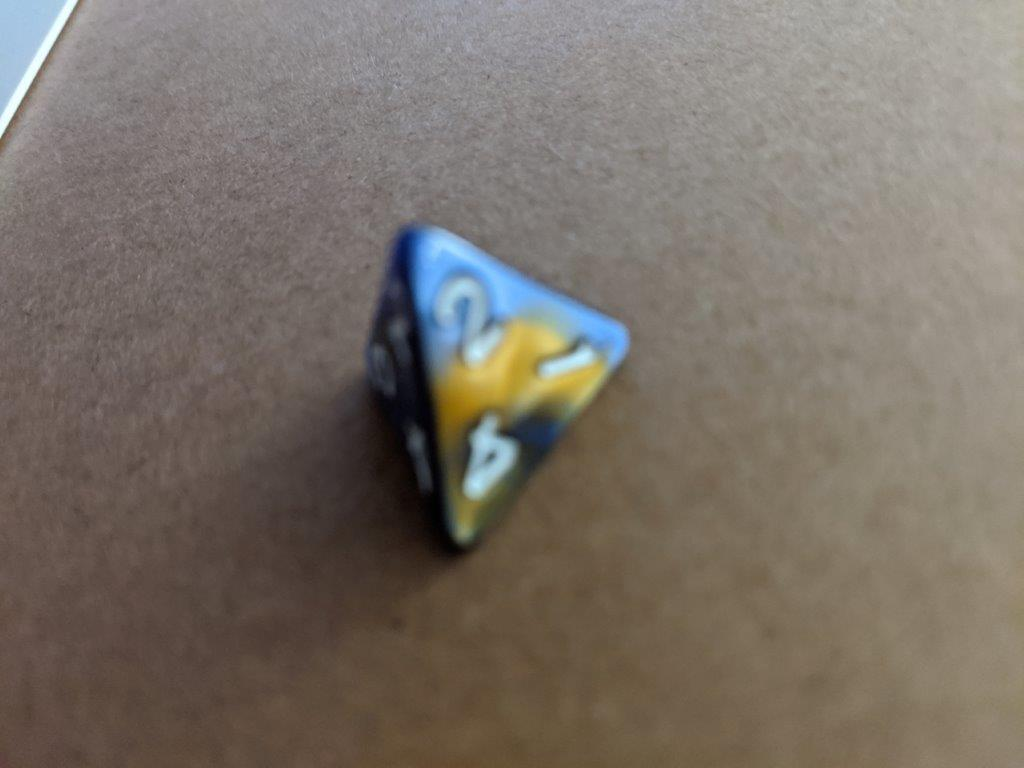d4-2: (351, 218, 636, 558)
